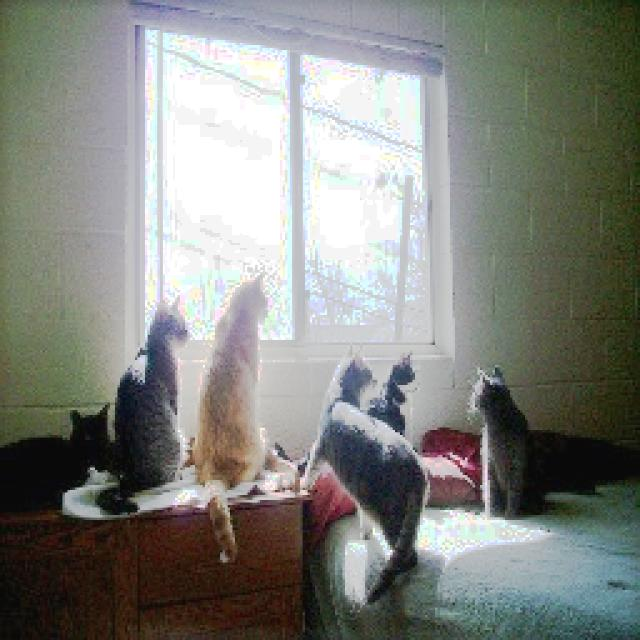cat: (161, 273, 301, 572), (296, 347, 434, 608), (81, 288, 207, 526), (447, 344, 565, 542), (4, 391, 119, 528), (361, 328, 439, 443)
